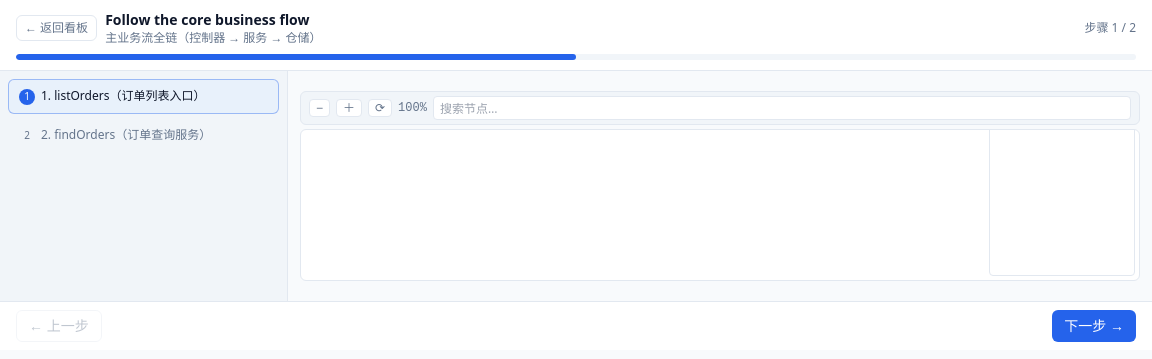
TourPlayer (issue 13) › navigates to a step when clicked and updates the progress
Click the button with test id "tour-step" showing "2 2. findOrders（订单查询服务）" at [144, 135], box [8,118,279,153]
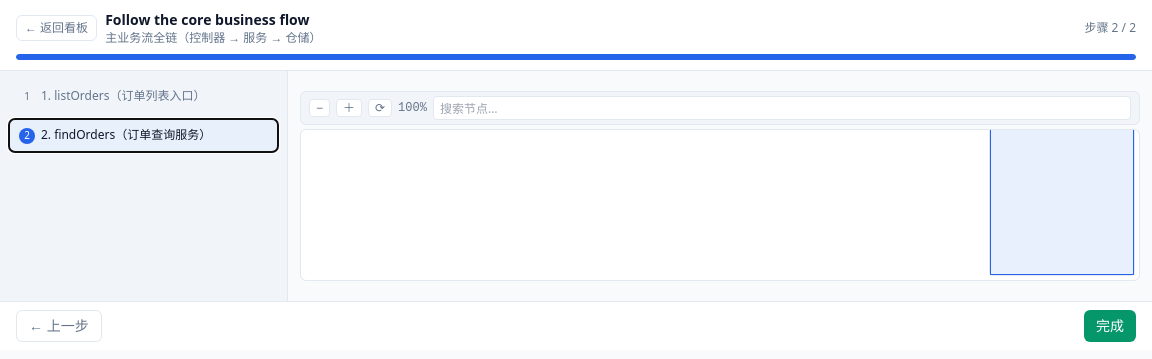
Result: the text with test id "tour-progress" reads "步骤 2 / 2" at [1084,20,1136,36]
